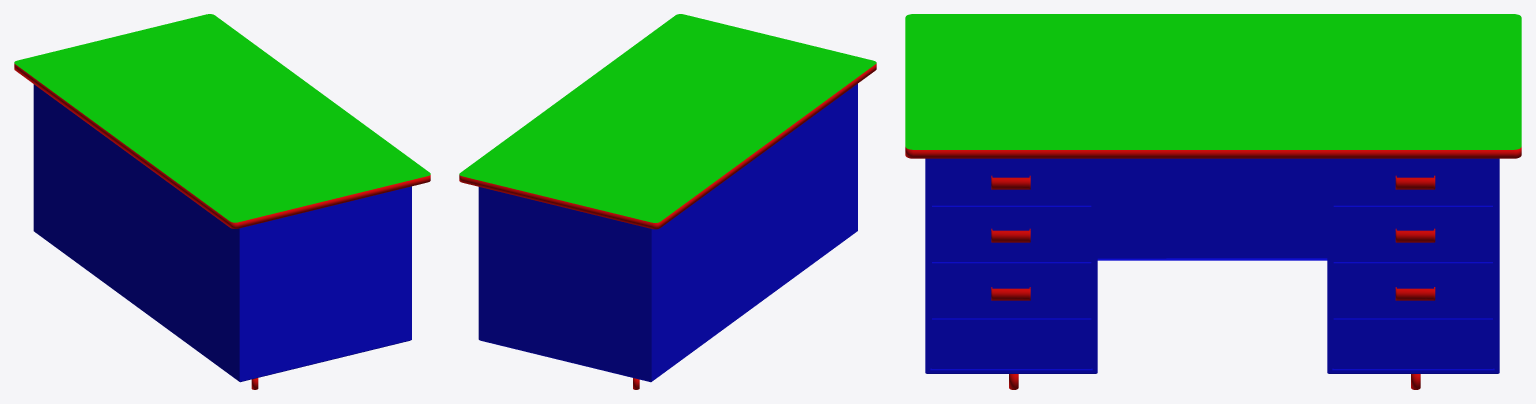
Rendered from OfficeTable.fbx.
3 views of the same model, side by side, from view 1: azimuth 30°, elevation 25°; view 2: azimuth 150°, elevation 25°; view 3: azimuth 270°, elevation 25° (orthographic). The views are drawn at different scales.
Visible parts, largest first — view 1: Table; view 2: Table; view 3: Table.
Boxes of the visible parts, box(x1,y1,x2,y2) form: Table: box(14, 14, 430, 389); Table: box(459, 14, 876, 389); Table: box(905, 14, 1521, 389).
Bounding box in the file's own units: 200 × 172 × 383.
